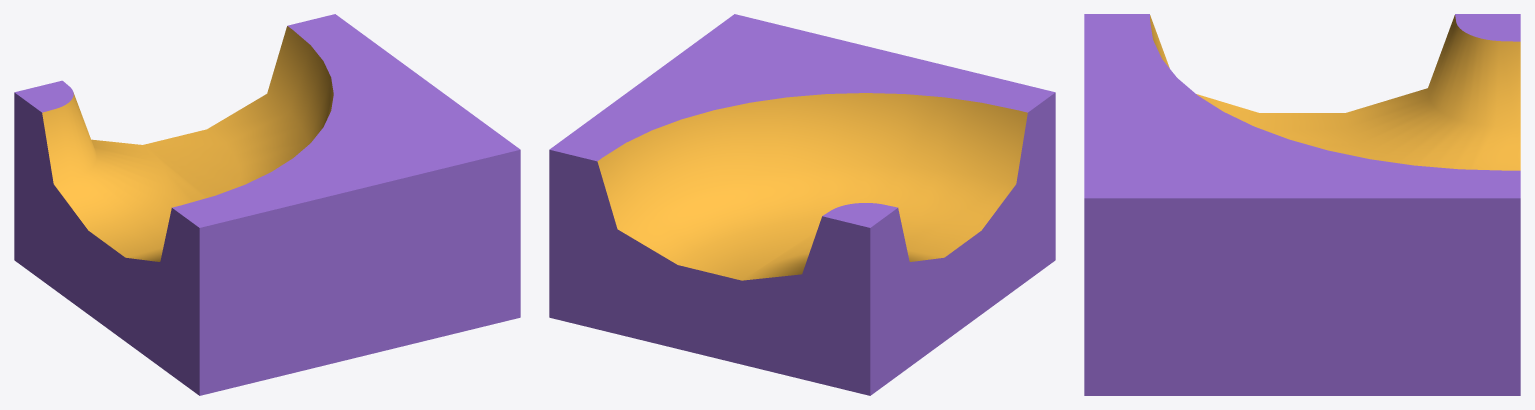
File: kenney-marble-corner-solid.glb
3 views of the same model, side by side, from view 1: azimuth 30°, elevation 25°; view 2: azimuth 150°, elevation 25°; view 3: azimuth 270°, elevation 25° (orthographic). The views are drawn at different scales.
Parts seen in each view (by area): view 1: corner-solid; view 2: corner-solid; view 3: corner-solid.
Boxes of the visible parts, x1,y1,x2,y2 form: corner-solid: [14, 14, 520, 395]; corner-solid: [549, 14, 1055, 395]; corner-solid: [1084, 14, 1520, 395].
Size of the model in its own units: 1 by 0.5001 by 1.
Materials: 1 (1 with a texture image).
